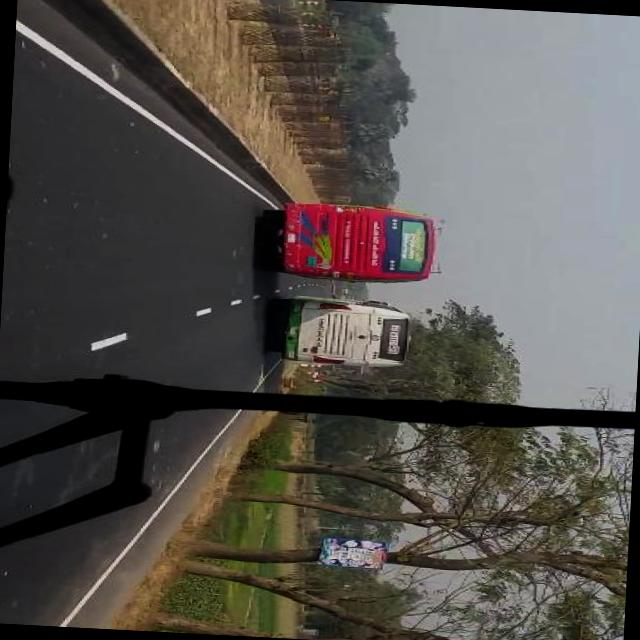bus: (264, 202, 440, 284), (277, 297, 417, 372)
